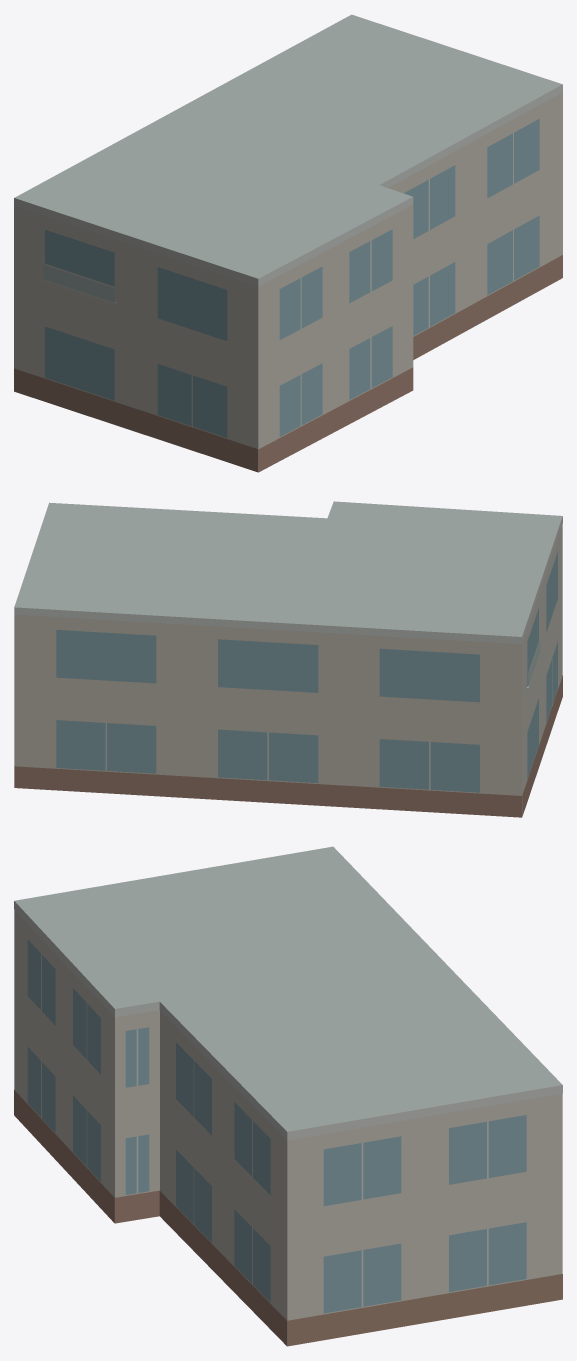
File: survey-upis-32963573.glb
The picture shows the model from 3 angles, top to bottom: view 1: azimuth 30°, elevation 25°; view 2: azimuth 150°, elevation 25°; view 3: azimuth 270°, elevation 25°; orthographic projection. The views are drawn at different scales.
Visible parts, largest first — view 1: survey-upis-32963573.tmp; view 2: survey-upis-32963573.tmp; view 3: survey-upis-32963573.tmp.
Part boxes in pixels (left/top/right/bottom): survey-upis-32963573.tmp: left=14, top=14, right=562, bottom=472; survey-upis-32963573.tmp: left=14, top=501, right=562, bottom=817; survey-upis-32963573.tmp: left=14, top=846, right=562, bottom=1346.
Size of the model in its own units: 17.42 by 6.1 by 14.15.
